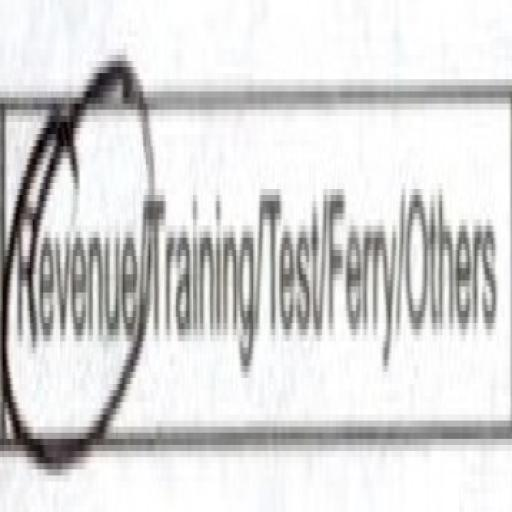check: (0, 12, 144, 505)
